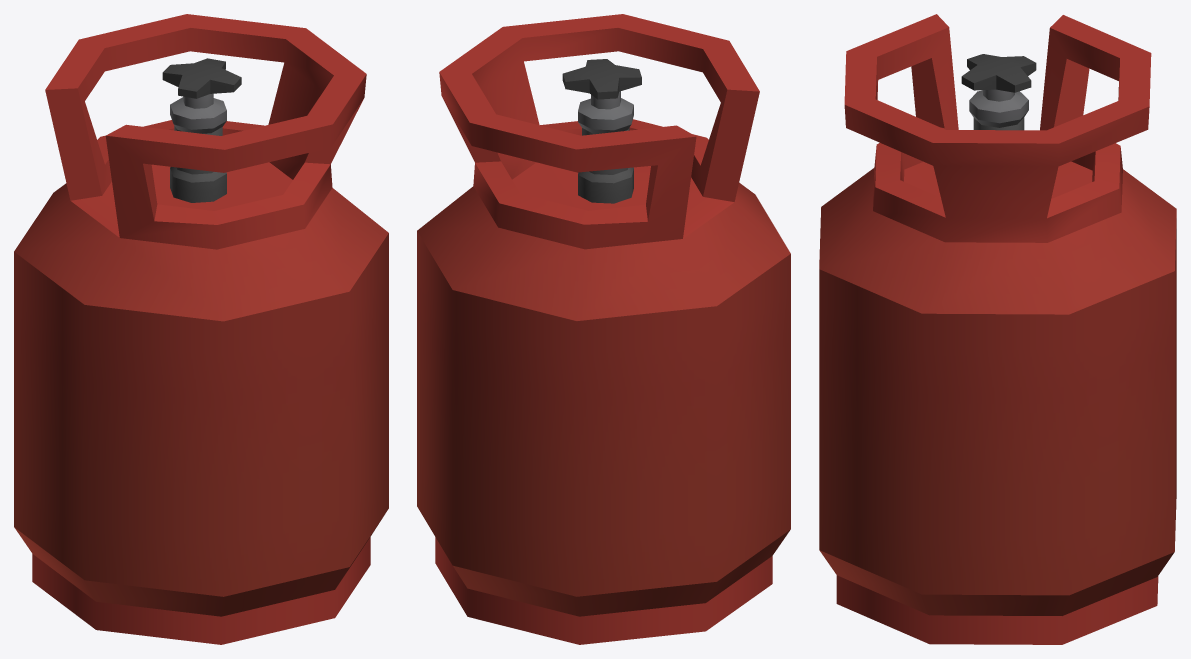
The model's file is GasCylinder_2_3.fbx.
The picture shows the model from 3 angles, left to right: view 1: azimuth 30°, elevation 25°; view 2: azimuth 150°, elevation 25°; view 3: azimuth 270°, elevation 25°; orthographic projection.
Visible parts, largest first — view 1: GasCylinder_2_3; view 2: GasCylinder_2_3; view 3: GasCylinder_2_3.
Part boxes in pixels (x1,y1,x2,y2): GasCylinder_2_3: [14, 14, 388, 644]; GasCylinder_2_3: [417, 14, 790, 644]; GasCylinder_2_3: [819, 14, 1176, 644].
Size of the model in its own units: 38.47 by 60.7 by 38.47.
